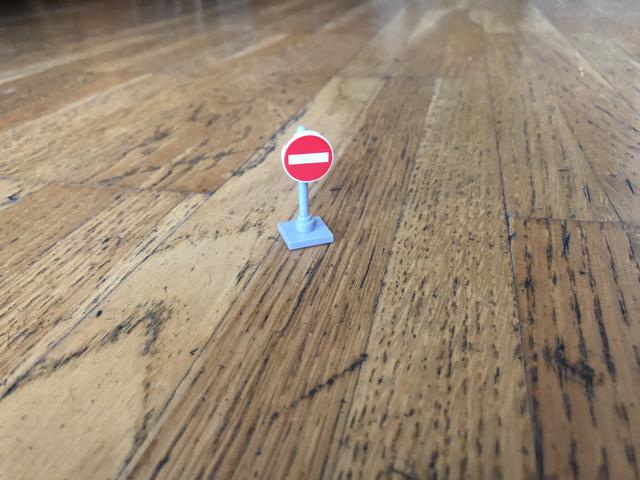verbot der einfahrt: (279, 131, 335, 186)
